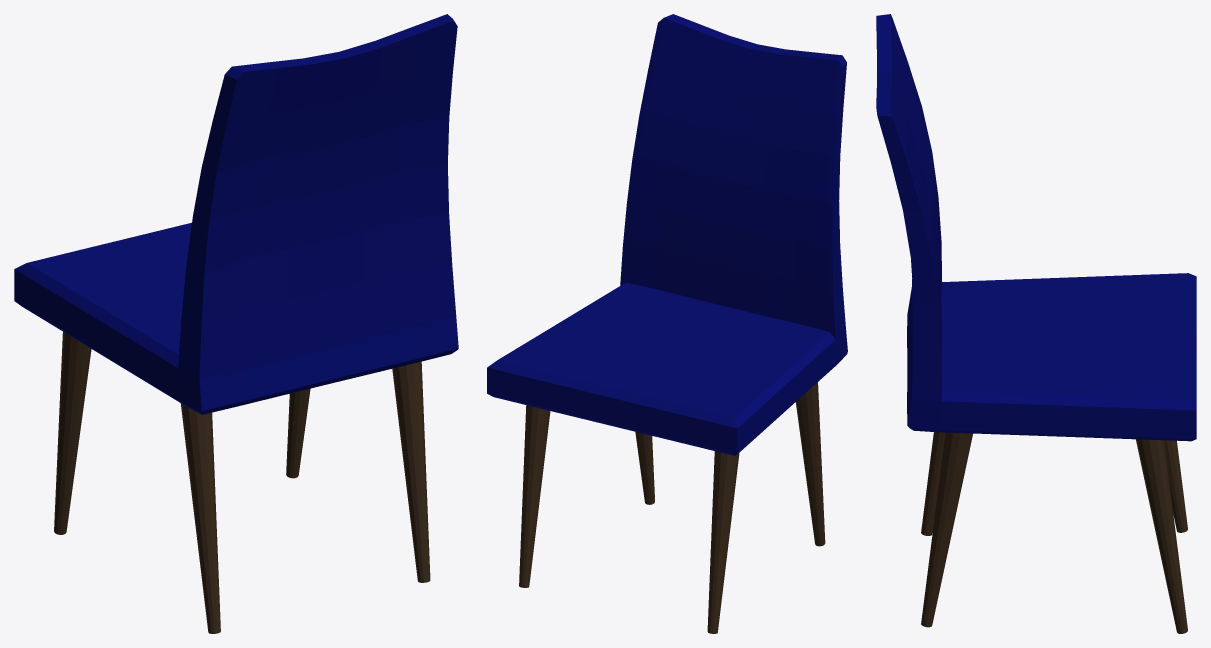
File: chair.fbx
The picture shows the model from 3 angles, left to right: view 1: azimuth 30°, elevation 25°; view 2: azimuth 150°, elevation 25°; view 3: azimuth 270°, elevation 25°; orthographic projection. The views are drawn at different scales.
Parts seen in each view (by area): view 1: chair; view 2: chair; view 3: chair.
Part boxes in pixels (x1,y1,x2,y2): chair: (14, 14, 458, 633); chair: (487, 14, 847, 633); chair: (876, 14, 1196, 633).
Bounding box in the file's own units: 1.35 × 2.44 × 1.36.
